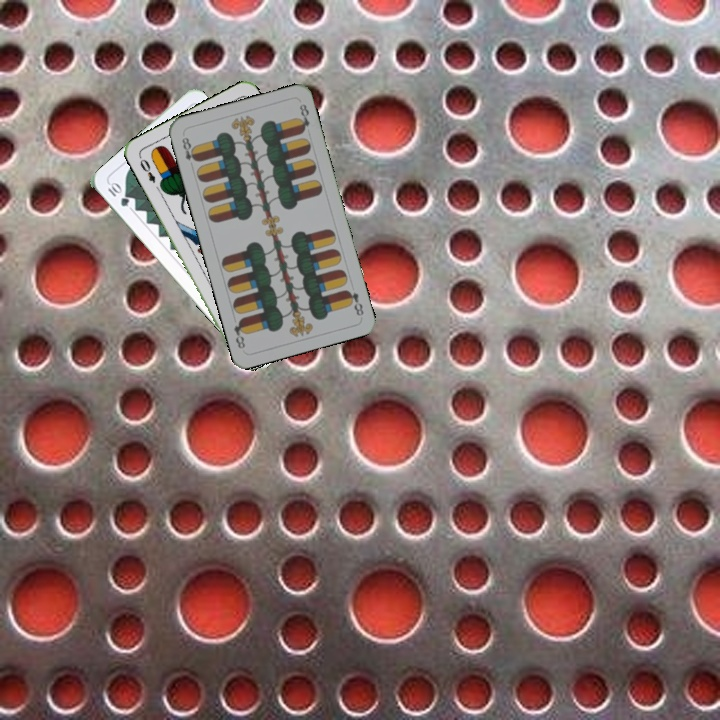E8: (342, 286, 366, 319), (178, 133, 200, 164)
EO: (135, 152, 158, 186)
G10: (104, 178, 132, 209)
